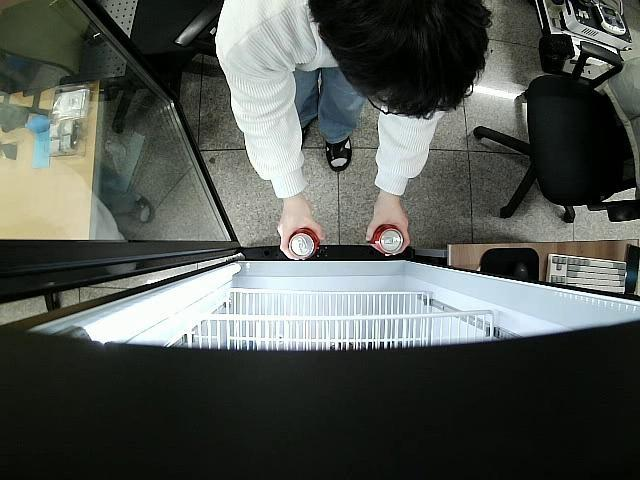11_cocaColaZero: (367, 222, 403, 256), (286, 228, 320, 258)
